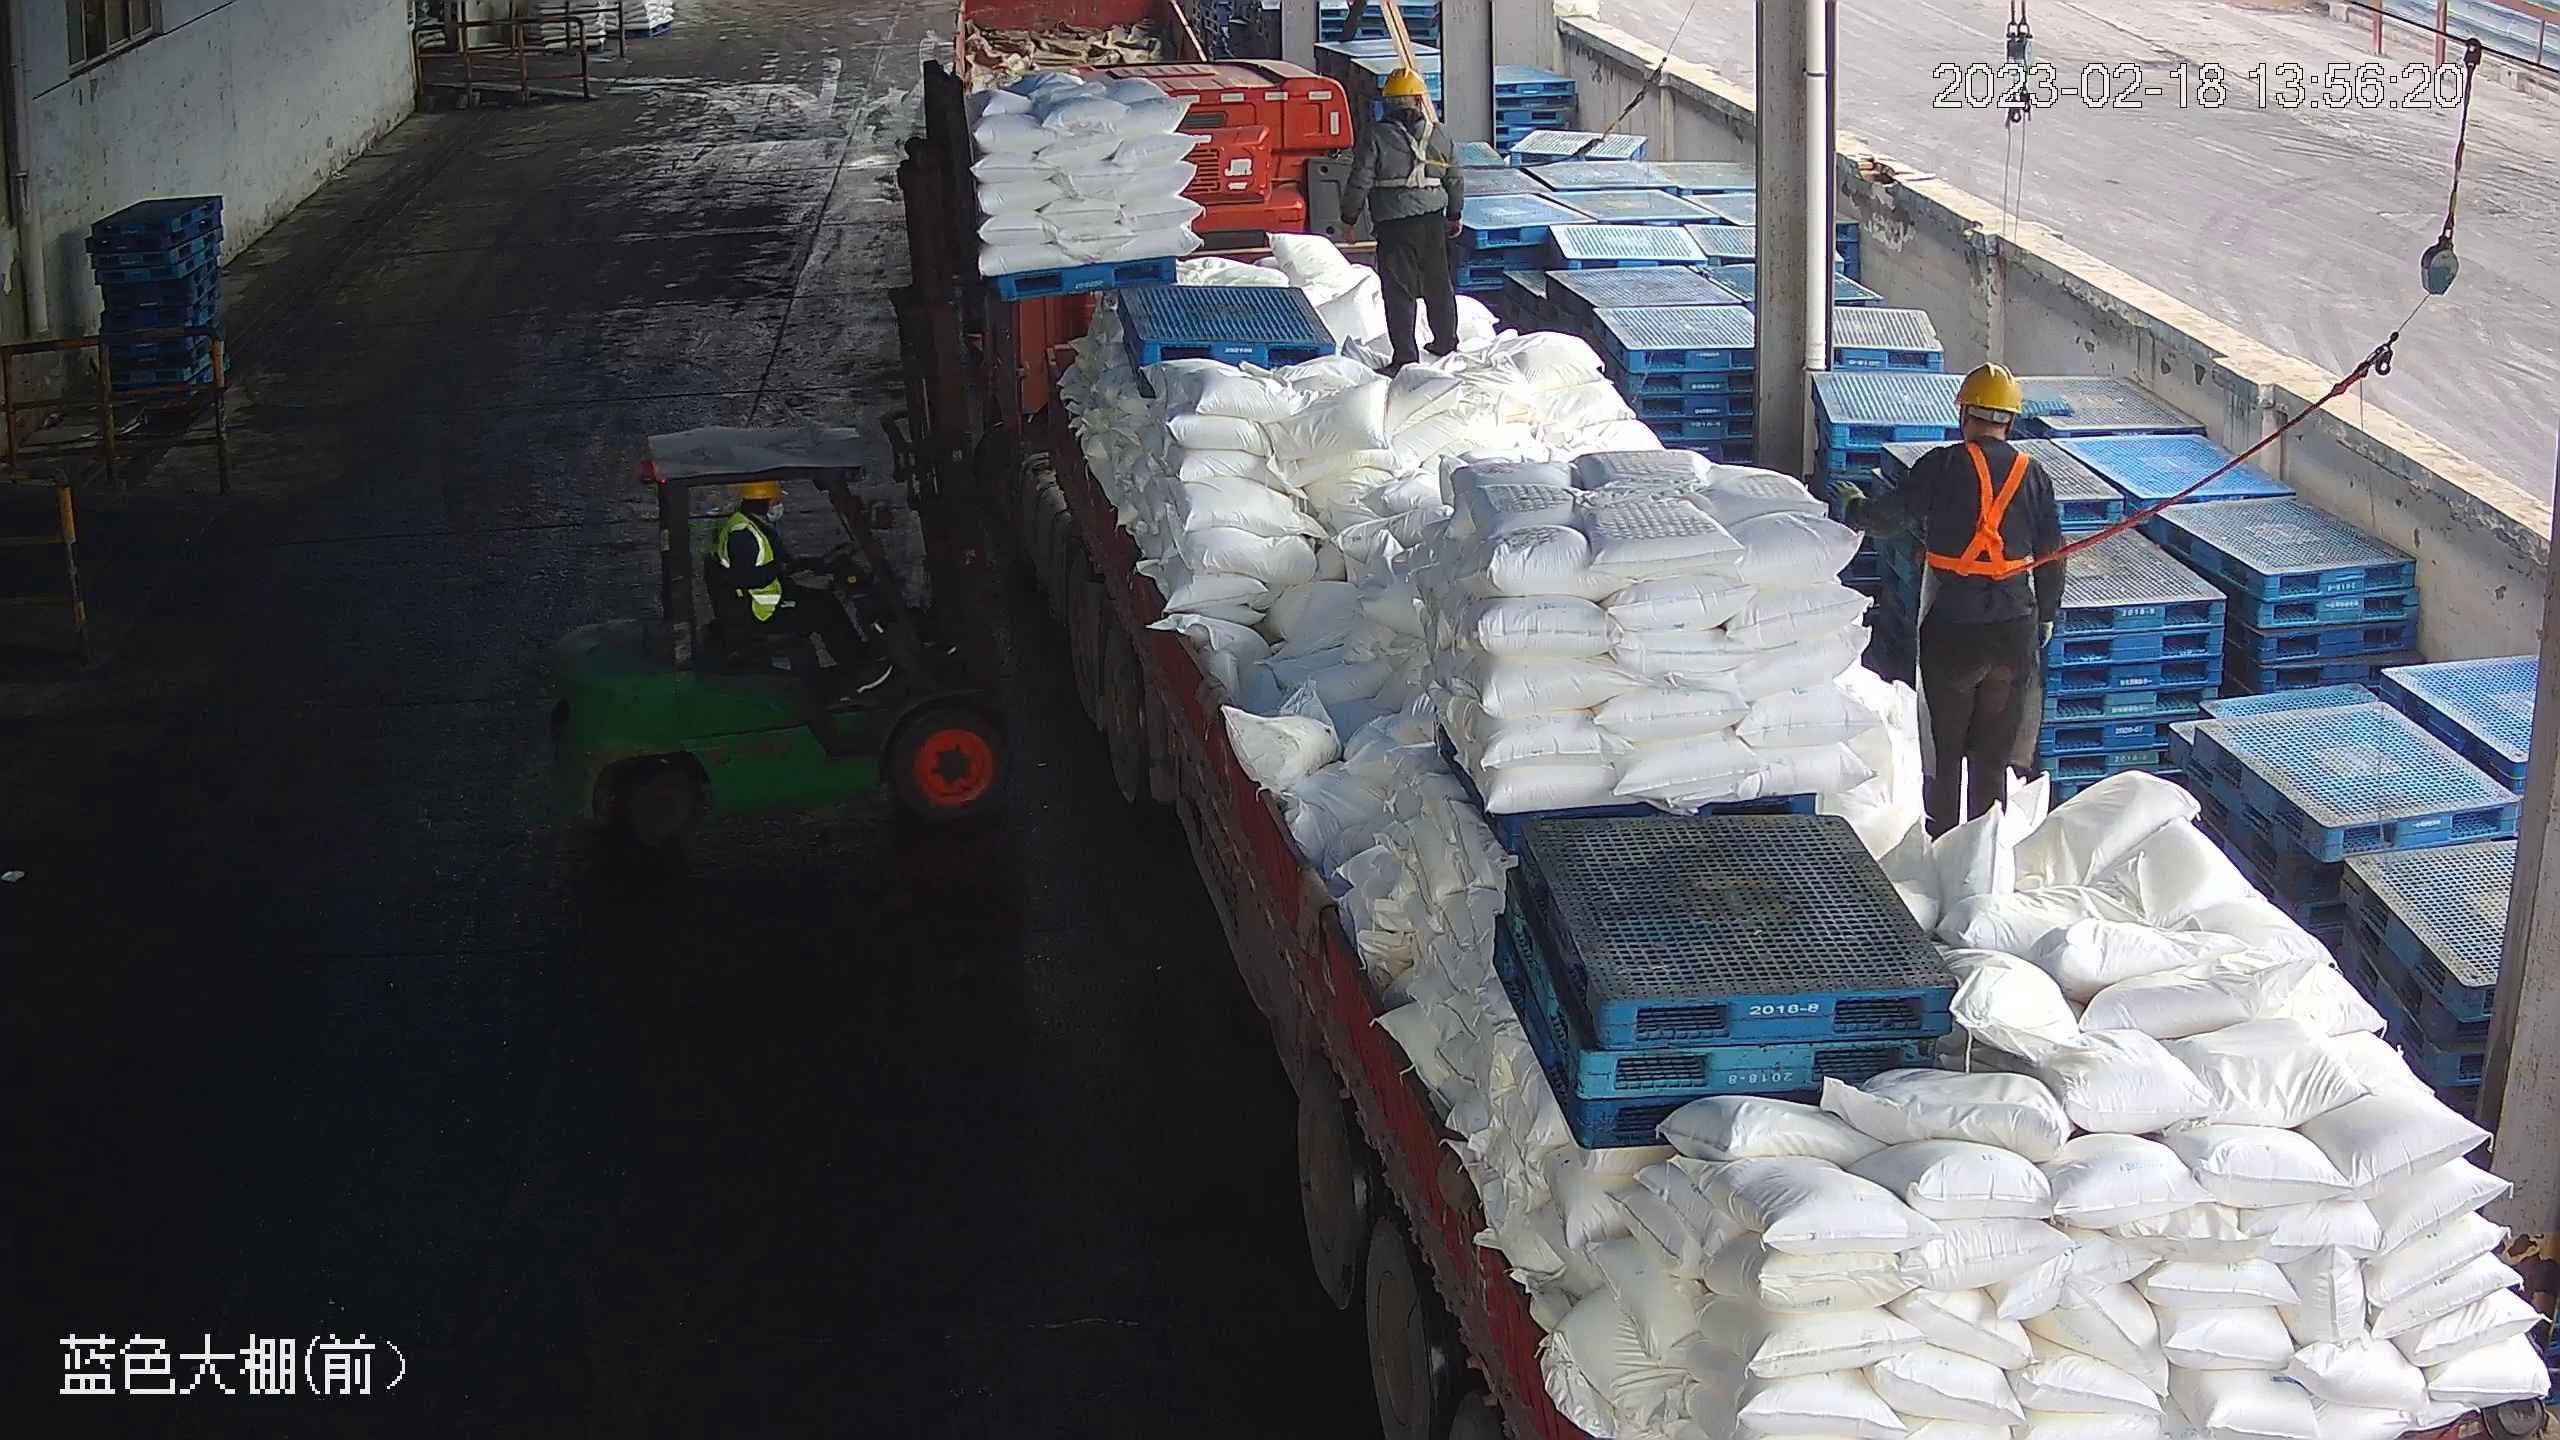belt: (1922, 438, 2047, 580), (1375, 114, 1458, 194)
head: (1906, 360, 2059, 507), (1361, 65, 1456, 157), (718, 480, 791, 554)
helmet: (1953, 360, 2022, 412), (1379, 65, 1428, 99)
people: (1840, 355, 2074, 842), (714, 477, 884, 694), (1359, 63, 1469, 374)
truck: (957, 77, 2558, 1440)
